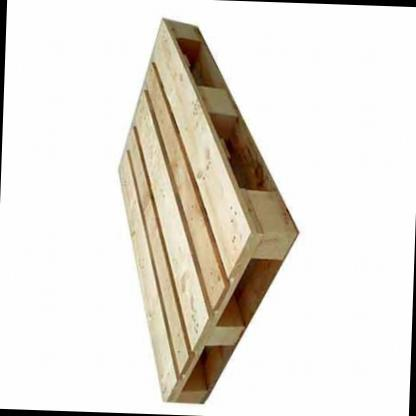BoxFace: (116, 18, 305, 410)
